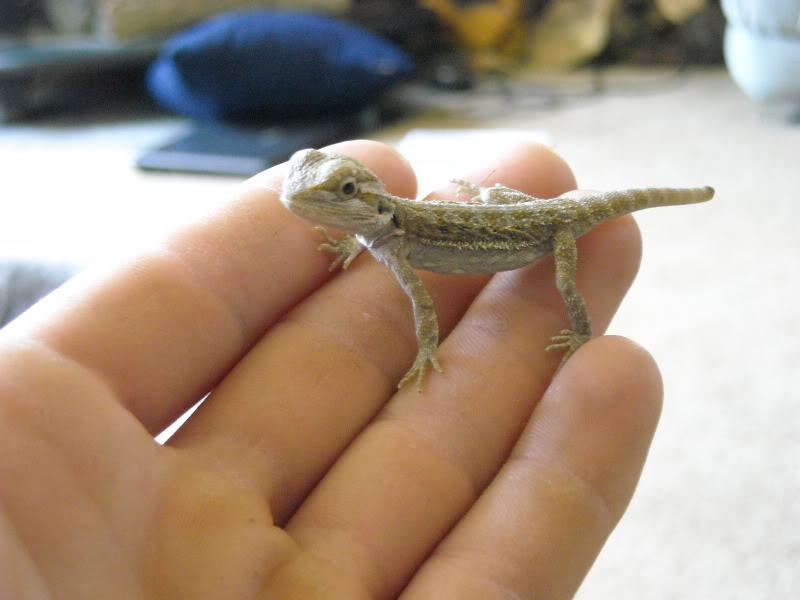bearded: (272, 142, 718, 393)
